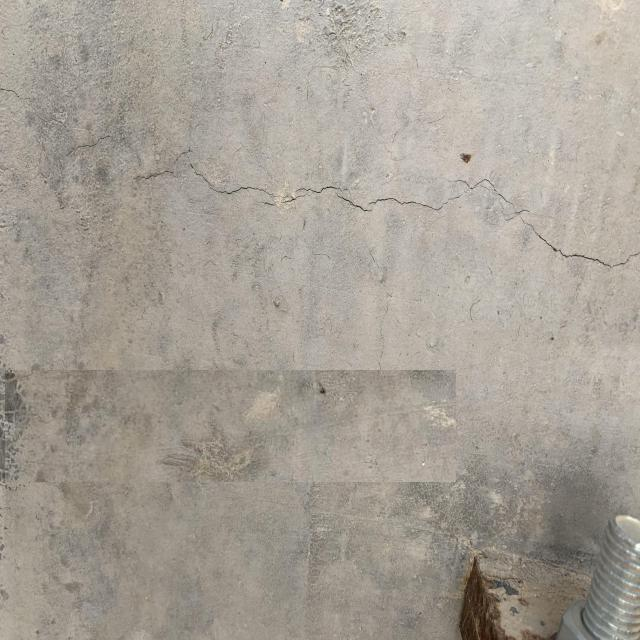horizontal crack: (1, 123, 640, 283)
